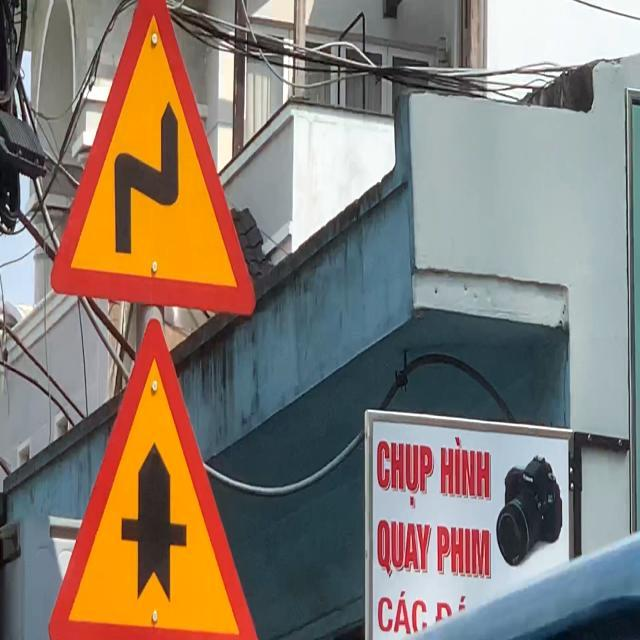Giao nhau voi duong khong uu tien: (45, 313, 264, 640)
Nhieu cho ngoat lien tiep ben phai: (48, 0, 258, 321)
